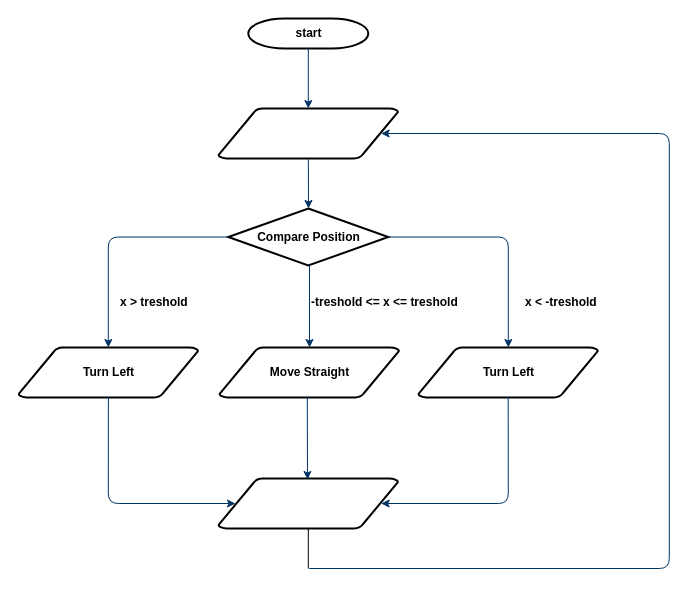
Image size: 695x594. Some labels were removed from this diagram. The centre of each missing label's shape, as x and y in pixels:
"Publish Velocity Command" goes at point (308, 503).
"Read Line Position (x)" goes at point (308, 133).
